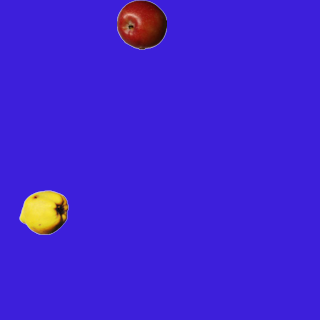Apple Braeburn: (116, 0, 166, 49)
Quince: (18, 187, 68, 237)
